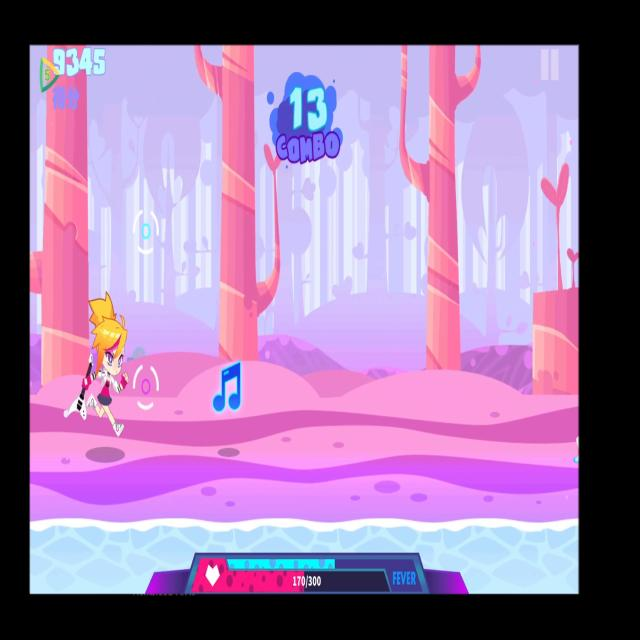incentive-blue Music note: (210, 355, 246, 424)
